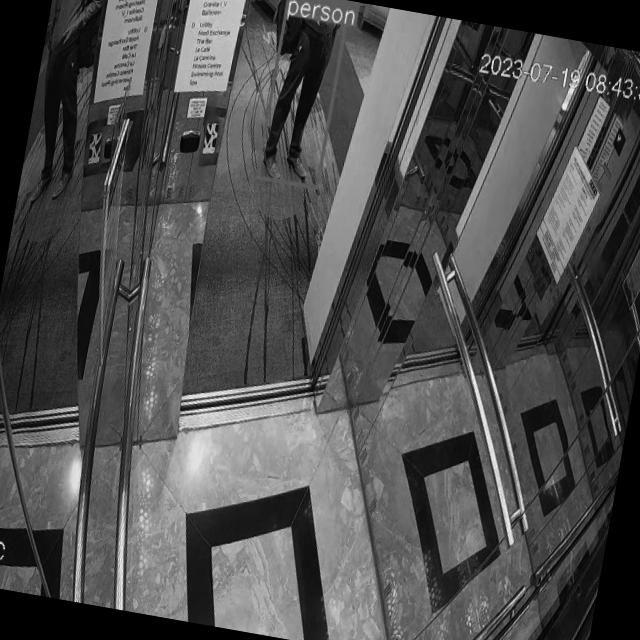person: (17, 0, 113, 204), (258, 0, 351, 185)
